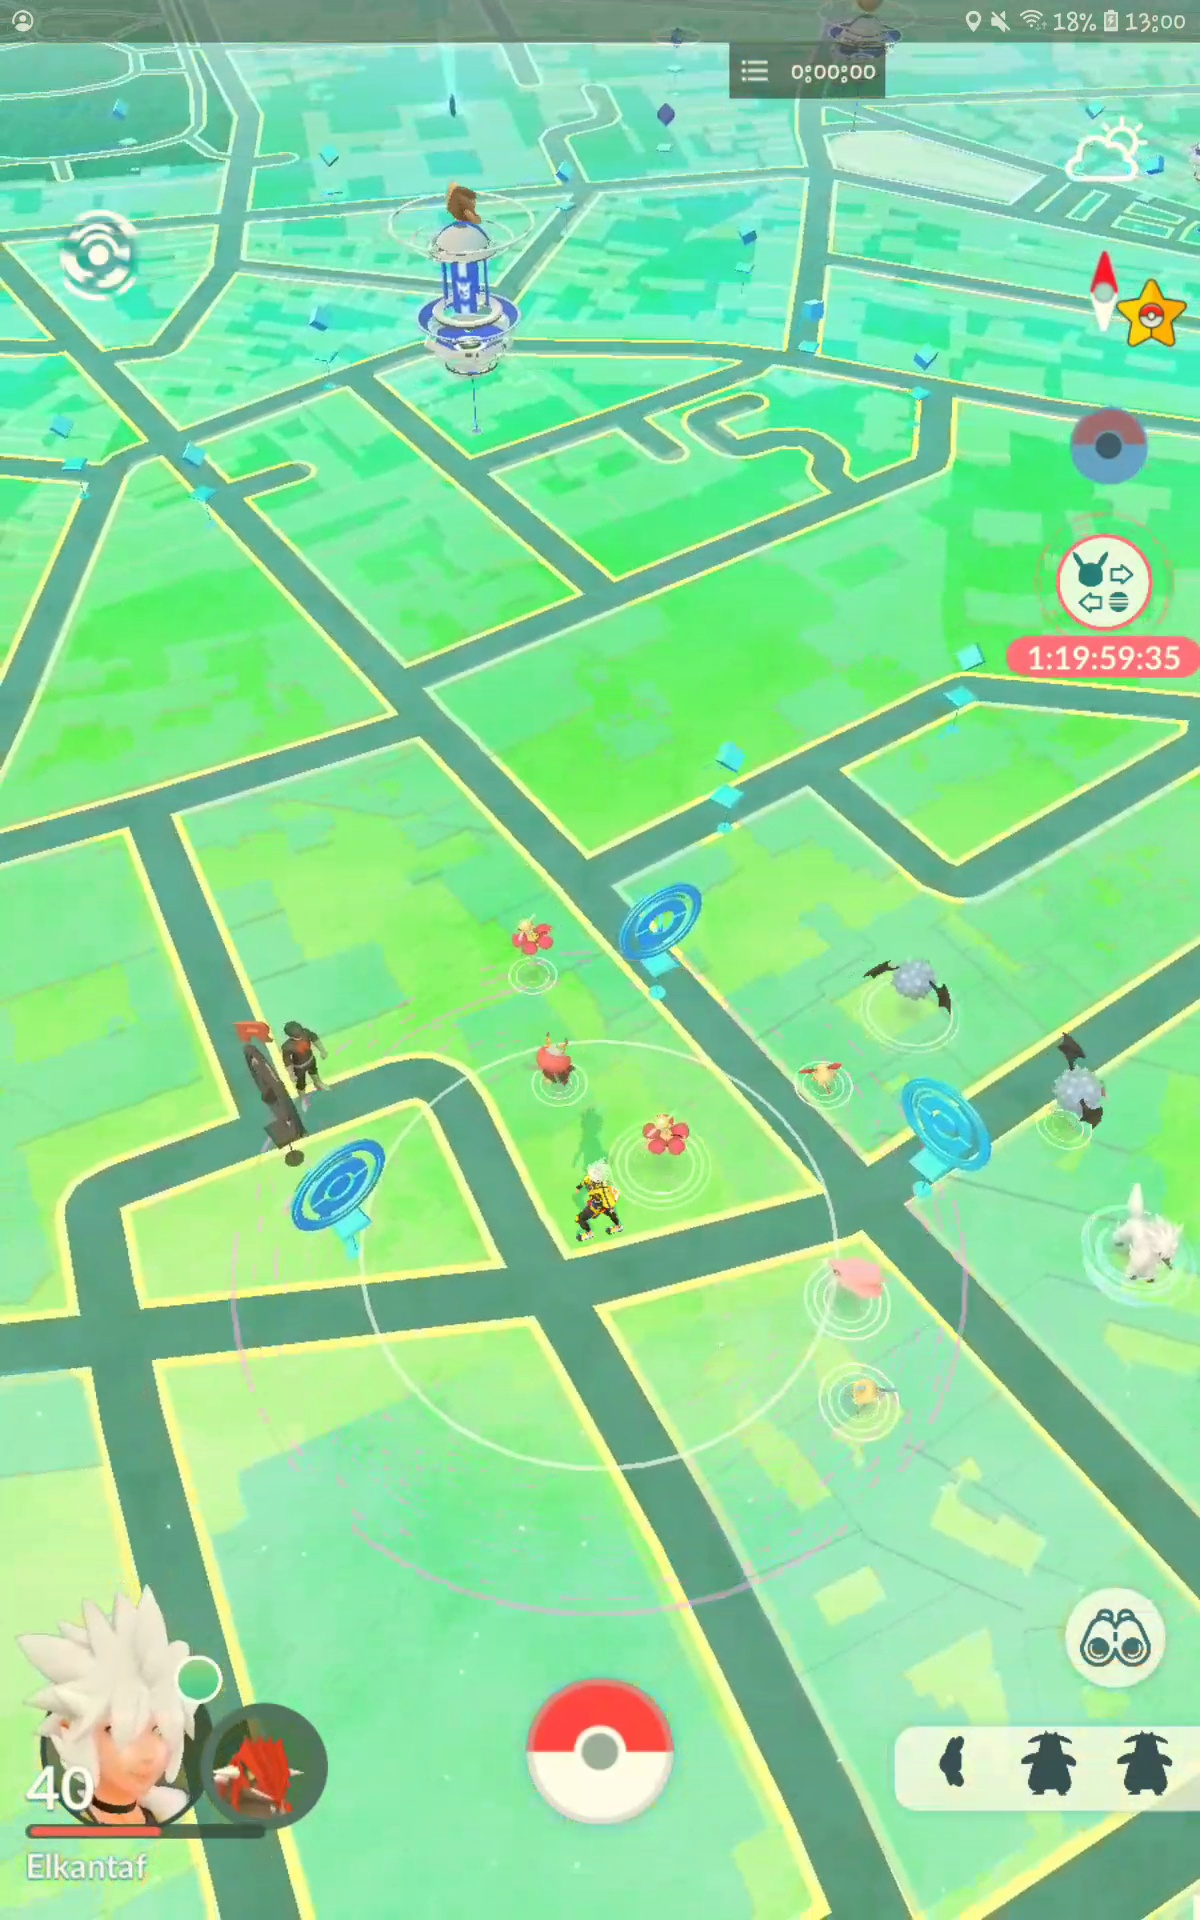Pokemon: (1092, 1175, 1190, 1301), (1040, 1019, 1125, 1156), (856, 937, 959, 1030), (824, 1360, 915, 1433), (521, 1024, 589, 1116), (817, 1247, 899, 1317), (635, 1104, 701, 1169), (502, 903, 565, 969), (794, 1051, 853, 1109)
